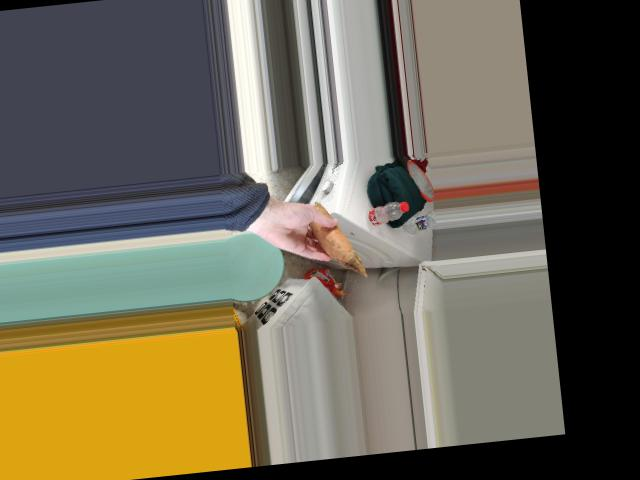sweet_potato: (310, 211, 353, 262)
